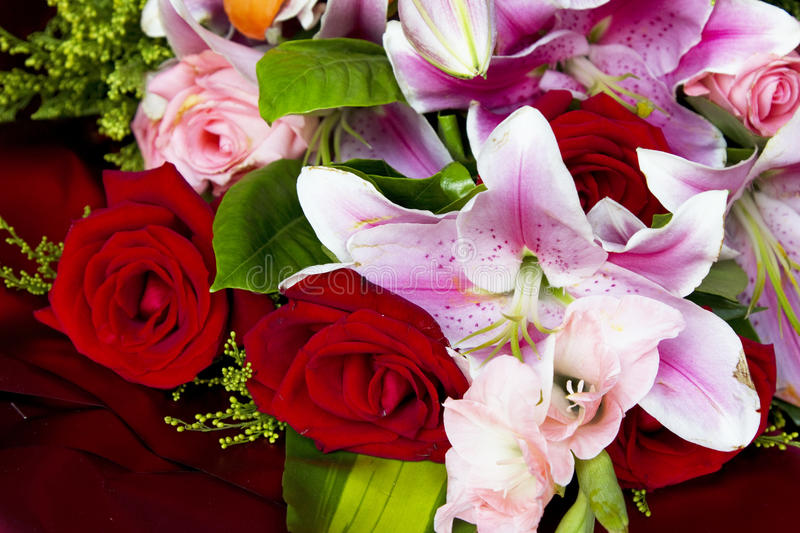RedRose: (242, 267, 475, 470), (40, 164, 237, 397), (608, 325, 781, 491), (531, 79, 673, 230)
